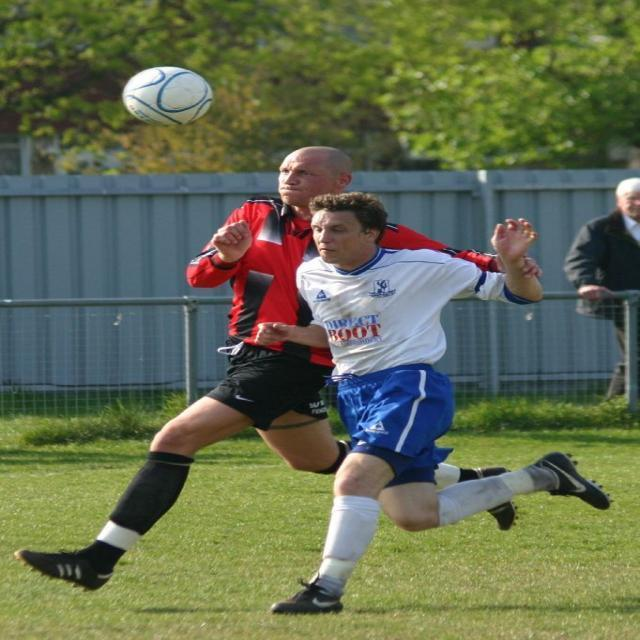football: (113, 45, 231, 140)
